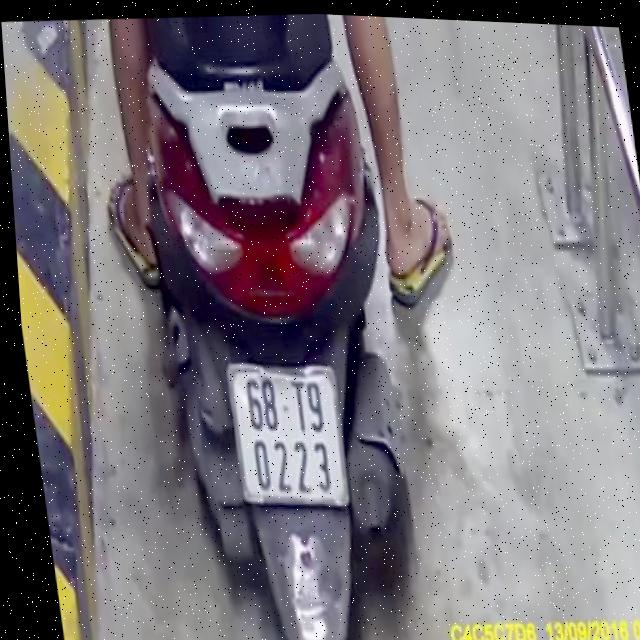motorcycle: (112, 5, 440, 640)
plate: (220, 354, 353, 521)
